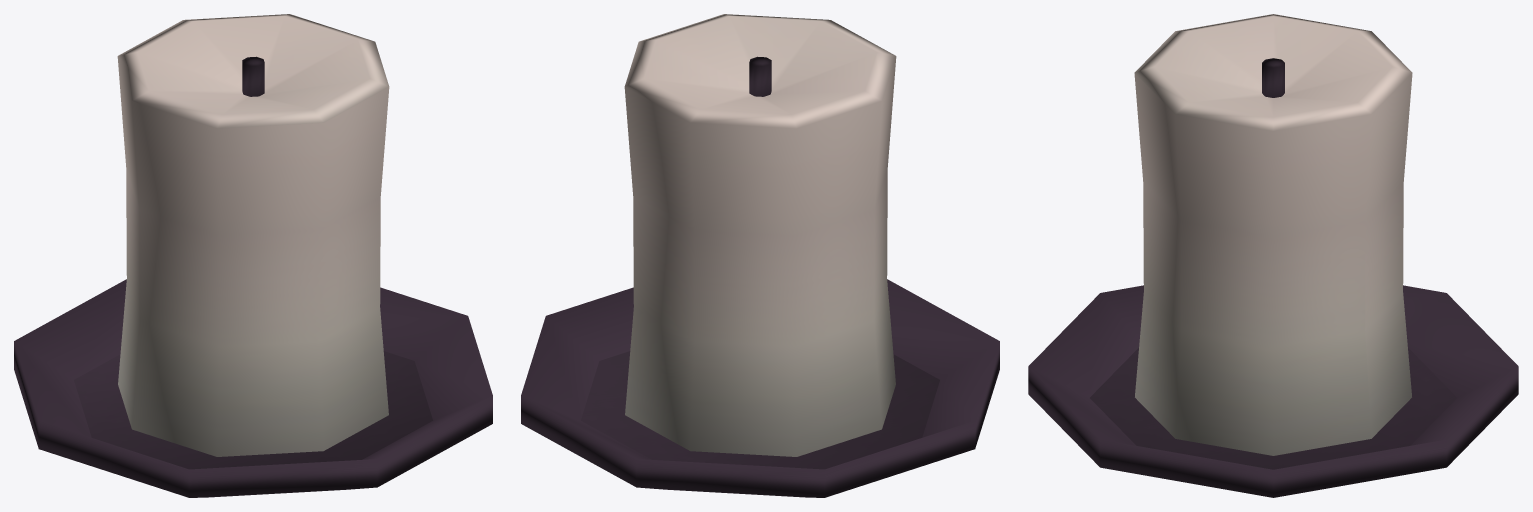
File: propCandle1_mesh.fbx
3 views of the same model, side by side, from view 1: azimuth 30°, elevation 25°; view 2: azimuth 150°, elevation 25°; view 3: azimuth 270°, elevation 25° (orthographic).
Parts seen in each view (by area): view 1: pCylinder3; view 2: pCylinder3; view 3: pCylinder3.
Part boxes in pixels (left/top/right/bottom): pCylinder3: left=14, top=14, right=492, bottom=497; pCylinder3: left=521, top=14, right=999, bottom=497; pCylinder3: left=1028, top=14, right=1518, bottom=497.
Bounding box in the file's own units: 0.2291 × 0.1847 × 0.2291.
